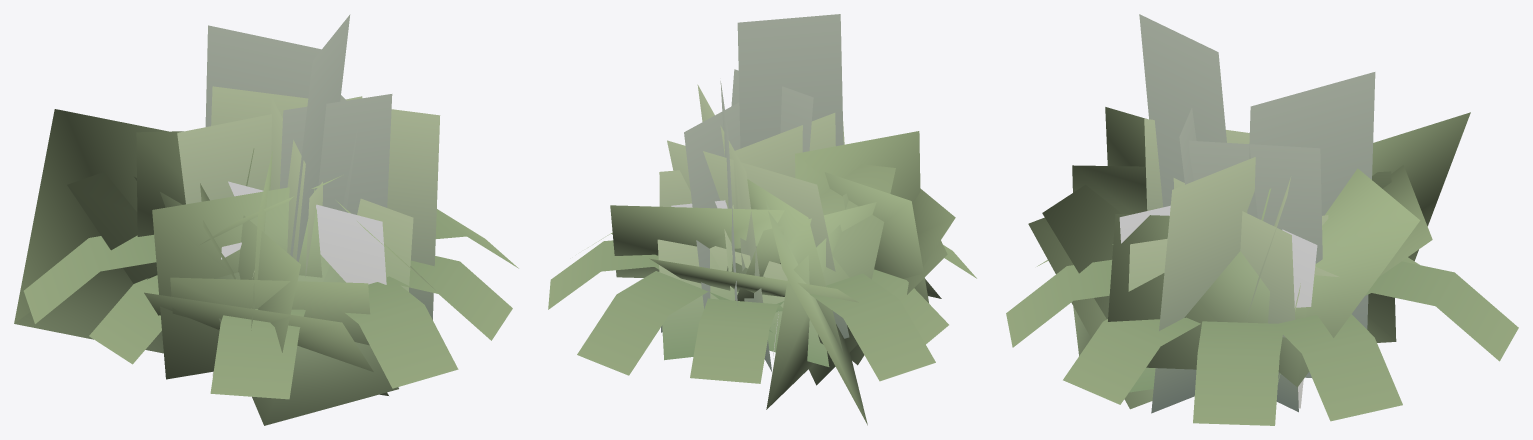
File: veg_all_groundcover.glb
3 renders of one model, left to right at view 1: azimuth 30°, elevation 25°; view 2: azimuth 150°, elevation 25°; view 3: azimuth 270°, elevation 25°, orthographic. The views are drawn at different scales.
Parts seen in each view (by area): view 1: veg_all_bush_lod0, veg_all_fern_lod0, veg_all_reeds_lod0, veg_all_grass-tall_lod0, veg_all_flowers_lod0, veg_all_grass-clump_lod0; view 2: veg_all_bush_lod0, veg_all_fern_lod0, veg_all_reeds_lod0, veg_all_grass-tall_lod0, veg_all_grass-clump_lod0; view 3: veg_all_bush_lod0, veg_all_fern_lod0, veg_all_reeds_lod0, veg_all_grass-tall_lod0, veg_all_flowers_lod0, veg_all_grass-clump_lod0.
Boxes of the visible parts, x1,y1,x2,y2 form: veg_all_bush_lod0: (14,109,435,425); veg_all_fern_lod0: (23,209,518,399); veg_all_reeds_lod0: (205,14,392,261); veg_all_grass-tall_lod0: (177,86,440,319); veg_all_flowers_lod0: (212,181,386,376); veg_all_grass-clump_lod0: (252,198,413,291); veg_all_bush_lod0: (610,131,955,425); veg_all_fern_lod0: (548,232,976,383); veg_all_reeds_lod0: (684,14,843,308); veg_all_grass-tall_lod0: (659,84,849,371); veg_all_grass-clump_lod0: (657,205,829,366); veg_all_bush_lod0: (1028,107,1470,409); veg_all_fern_lod0: (1006,244,1518,425); veg_all_reeds_lod0: (1139,14,1375,377); veg_all_grass-tall_lod0: (1144,118,1298,413); veg_all_flowers_lod0: (1119,205,1317,408); veg_all_grass-clump_lod0: (1128,215,1339,392).
Size of the model in its own units: 2.48 by 1.92 by 2.49.
